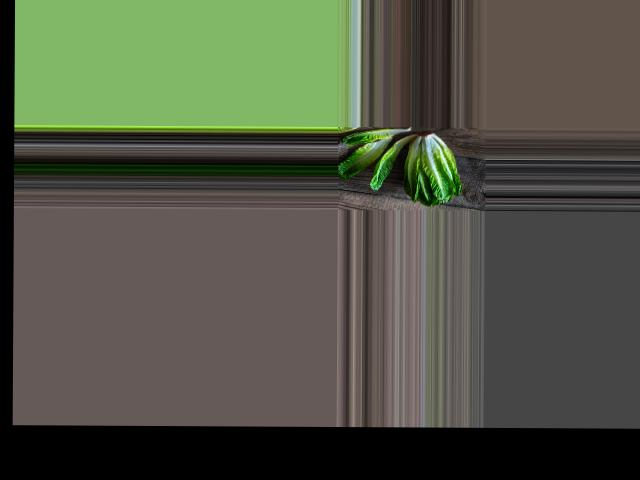lettuce: (400, 134, 464, 205)
